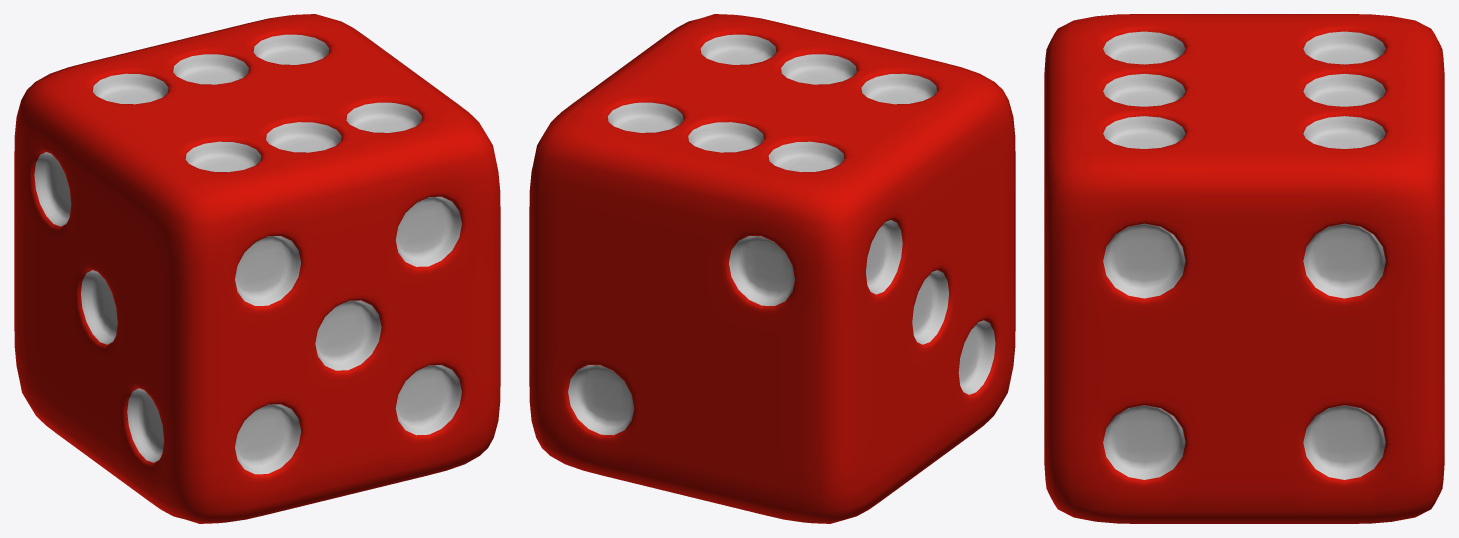
File: Dado.fbx
The picture shows the model from 3 angles, left to right: view 1: azimuth 30°, elevation 25°; view 2: azimuth 150°, elevation 25°; view 3: azimuth 270°, elevation 25°; orthographic projection. The views are drawn at different scales.
Visible parts, largest first — view 1: dado; view 2: dado; view 3: dado.
Part boxes in pixels (bbox=[...]): dado: bbox=[14, 14, 500, 523]; dado: bbox=[529, 14, 1015, 523]; dado: bbox=[1044, 14, 1444, 523].
Bounding box in the file's own units: 107 × 107 × 107.
